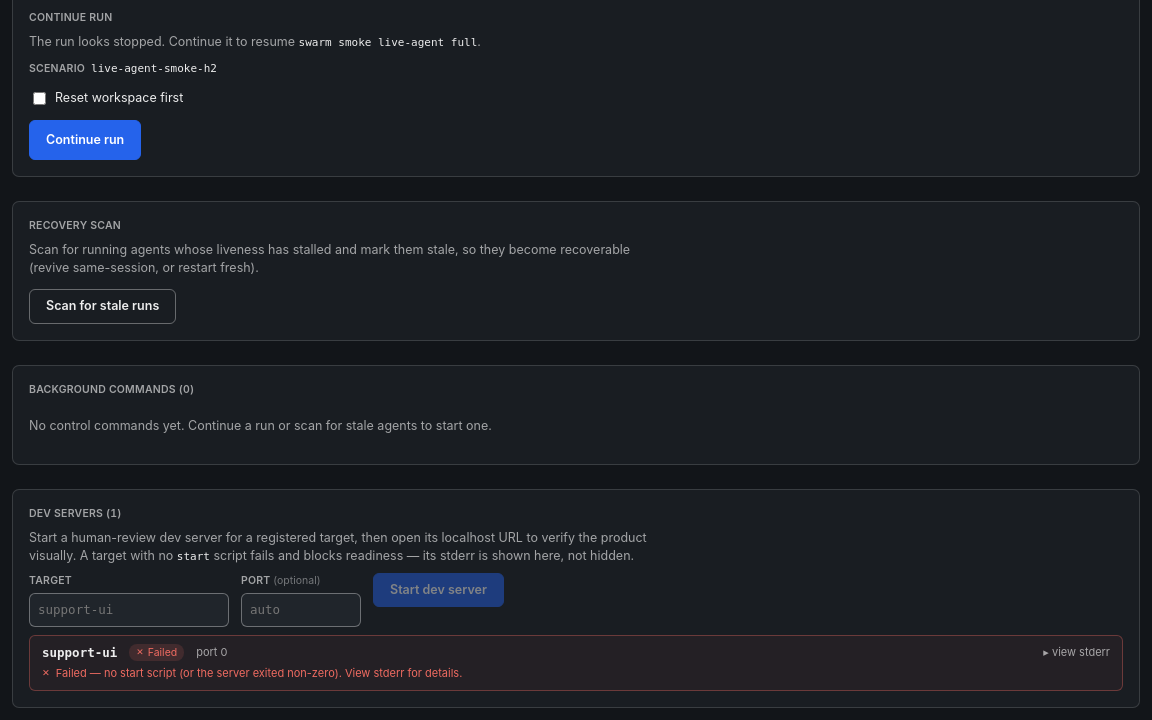
Scenario: Control — dev servers panel › surfaces a failed server with a clear failure message and a view-stderr toggle (not silent)
(page scrolled)
Expected: the message with class "ctl-dev-fail-msg" shows "no start script", [56,666,462,680]
Step 1. Click the button with class "ctl-log-toggle" → (1077, 653), box [1043,645,1110,660]
(page scrolled)
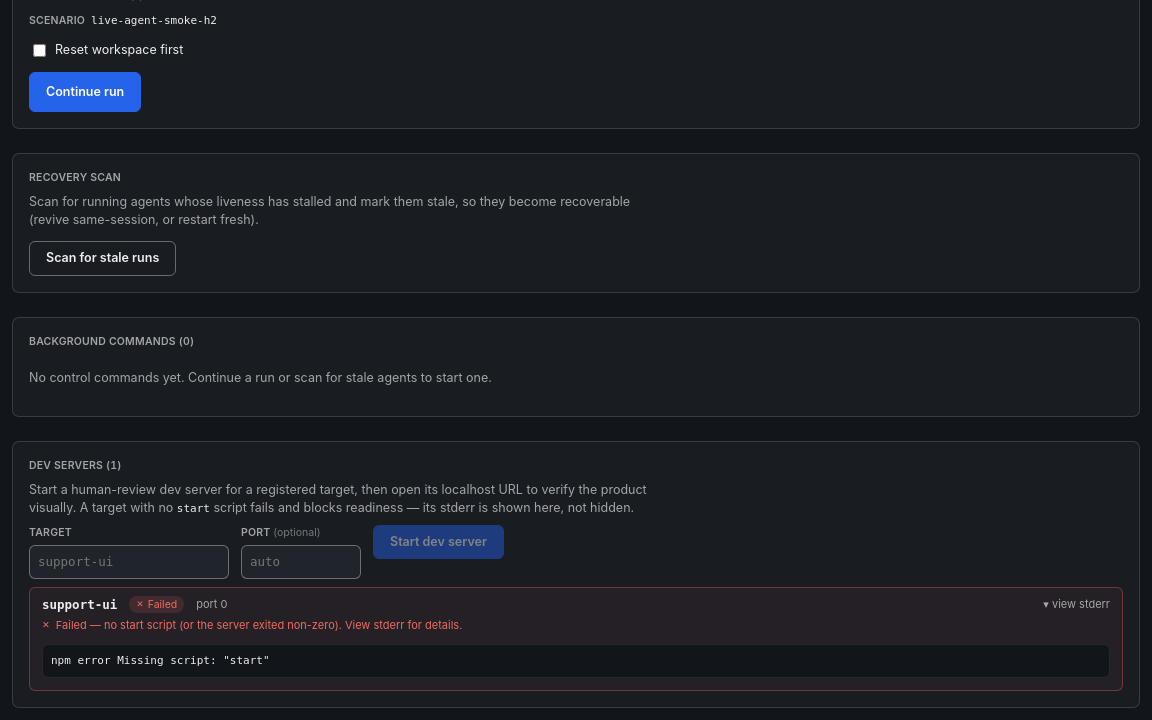
Now the text "npm error Missing script: \"start\"" is shown, box [42,644,1110,678]
Now the element with class "ctl-dev-stderr" shows "Missing script", box [51,654,270,667]
